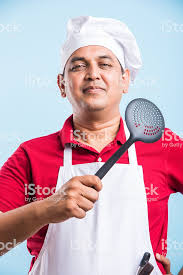Indian_Male: (63, 50, 129, 120)
